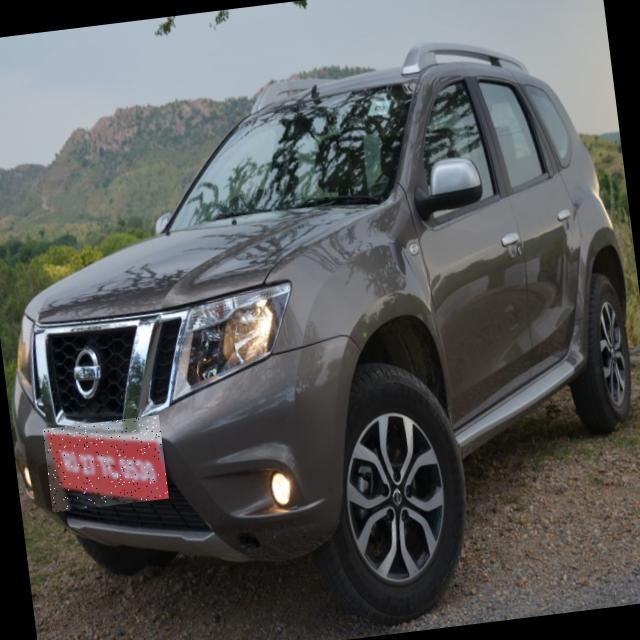Plate: (44, 415, 170, 513)
